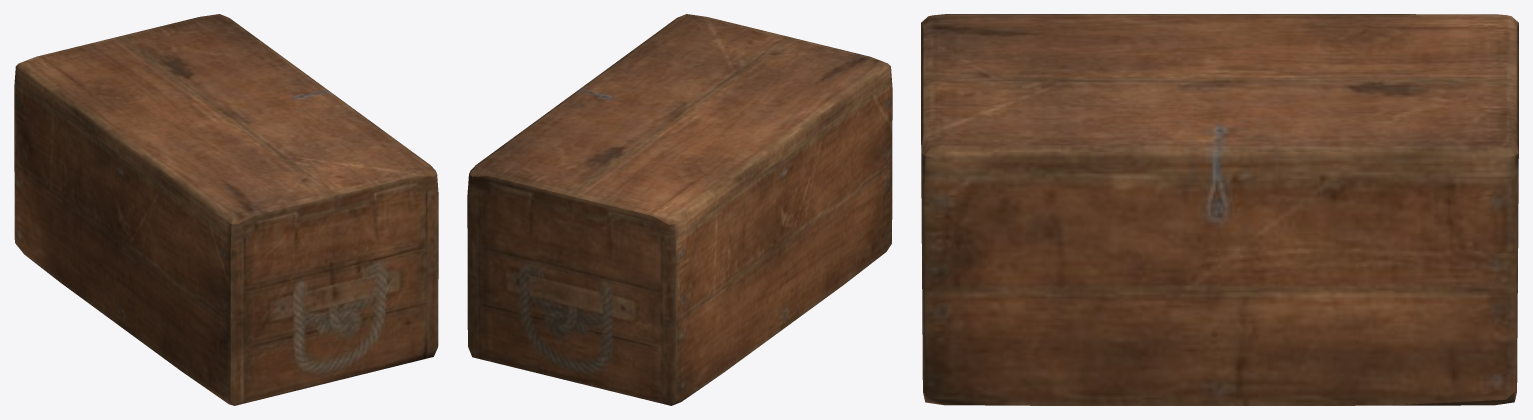
Rendered from crate.glb.
The picture shows the model from 3 angles, left to right: view 1: azimuth 30°, elevation 25°; view 2: azimuth 150°, elevation 25°; view 3: azimuth 270°, elevation 25°; orthographic projection. The views are drawn at different scales.
Visible parts, largest first — view 1: crate; view 2: crate; view 3: crate.
Boxes of the visible parts, <box> form: crate: <box>14,14,438,405</box>; crate: <box>467,14,892,405</box>; crate: <box>921,14,1518,405</box>.
Bounding box in the file's own units: 0.3916 × 0.3368 × 0.7073.
1 material, 1 textured.
